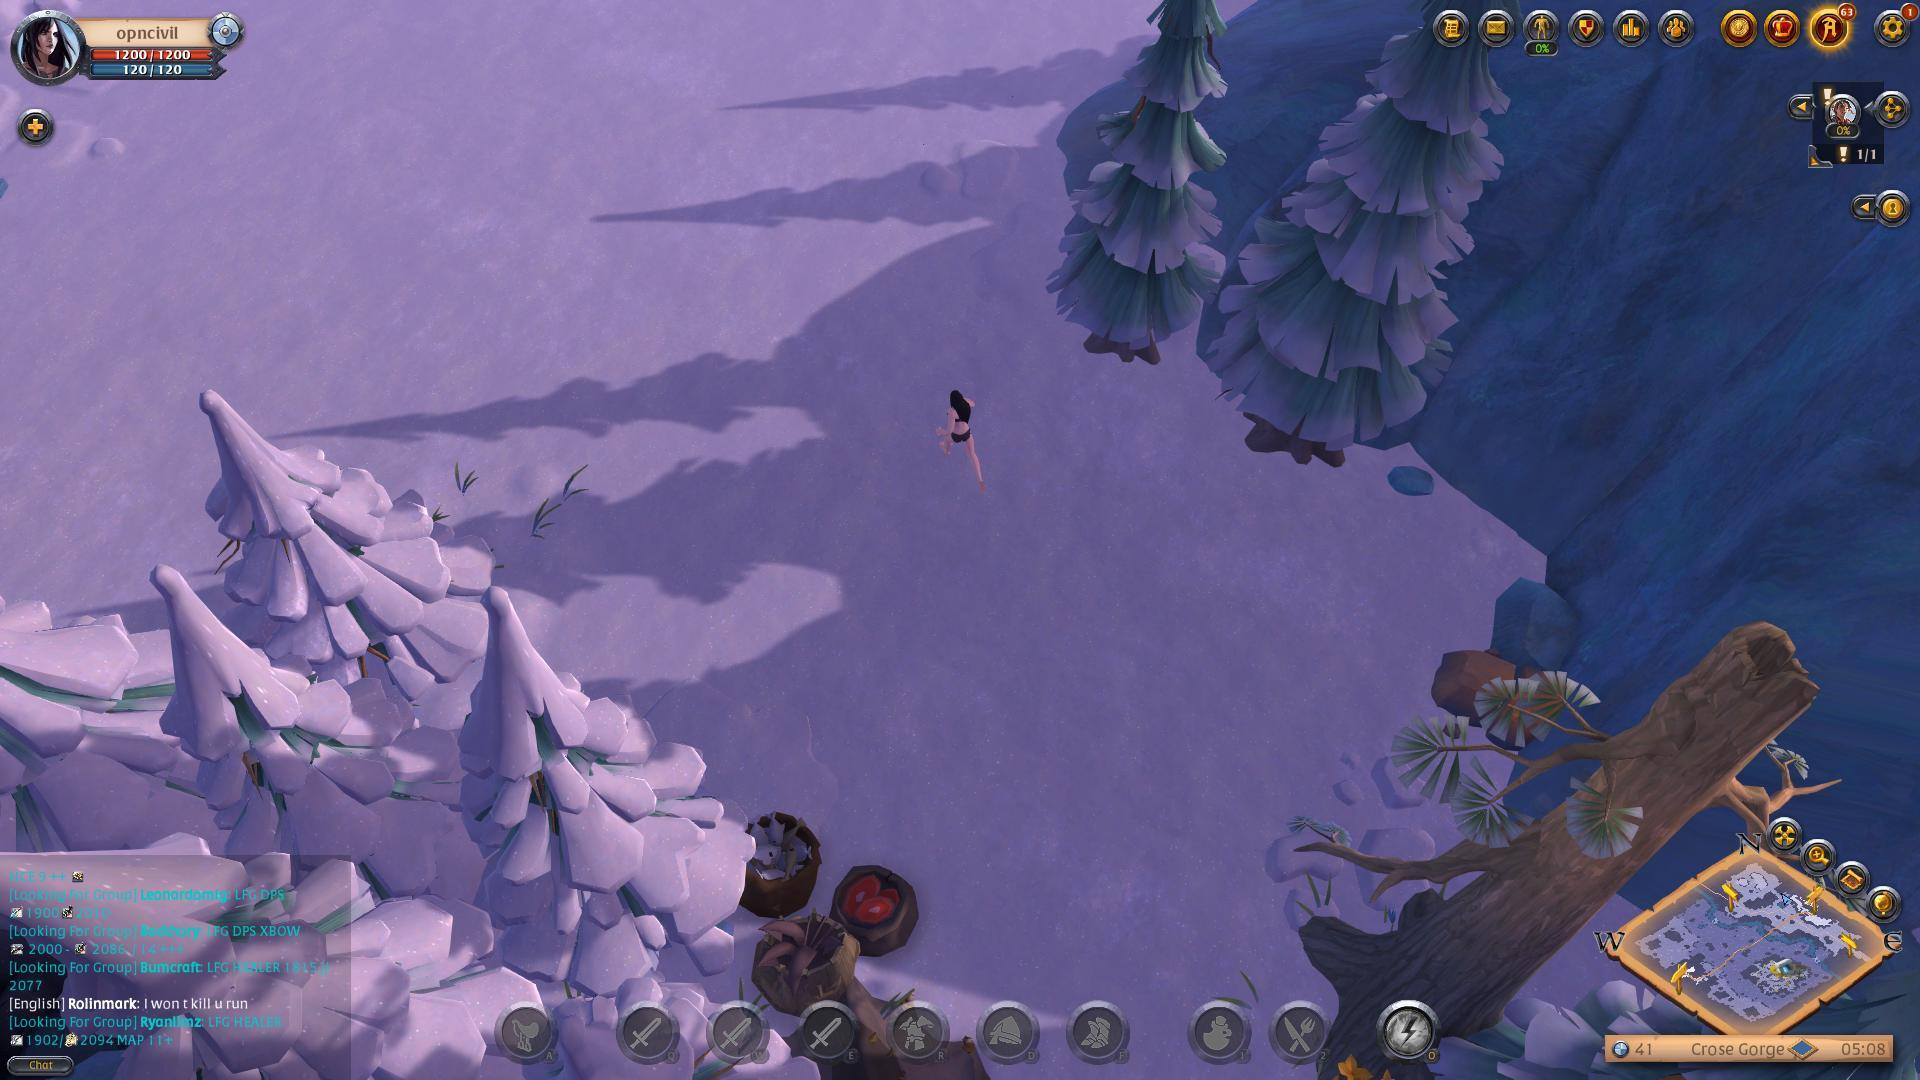limestone: (1419, 647, 1572, 735)
